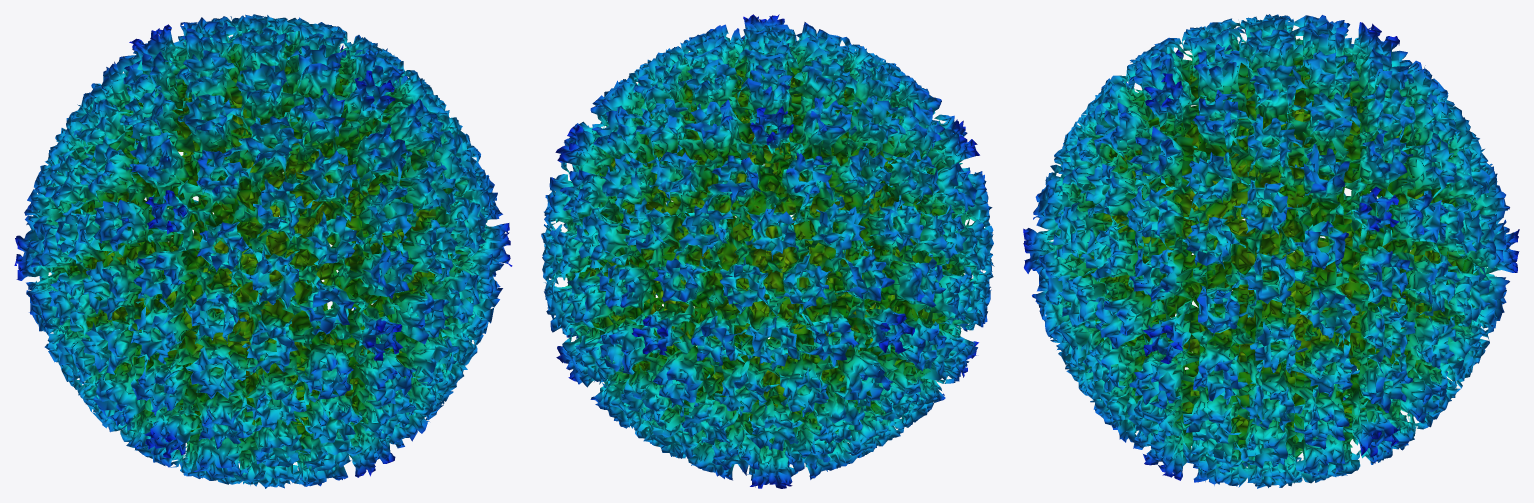
File: citomegalovirus.glb
3 renders of one model, left to right at view 1: azimuth 30°, elevation 25°; view 2: azimuth 150°, elevation 25°; view 3: azimuth 270°, elevation 25°, orthographic. The views are drawn at different scales.
Visible parts, largest first — view 1: Vírus; view 2: Vírus; view 3: Vírus.
Boxes of the visible parts, x1,y1,x2,y2 form: Vírus: (14, 14, 512, 488); Vírus: (541, 14, 994, 488); Vírus: (1023, 14, 1519, 488).
Bounding box in the file's own units: 12564 × 12473 × 13107.
